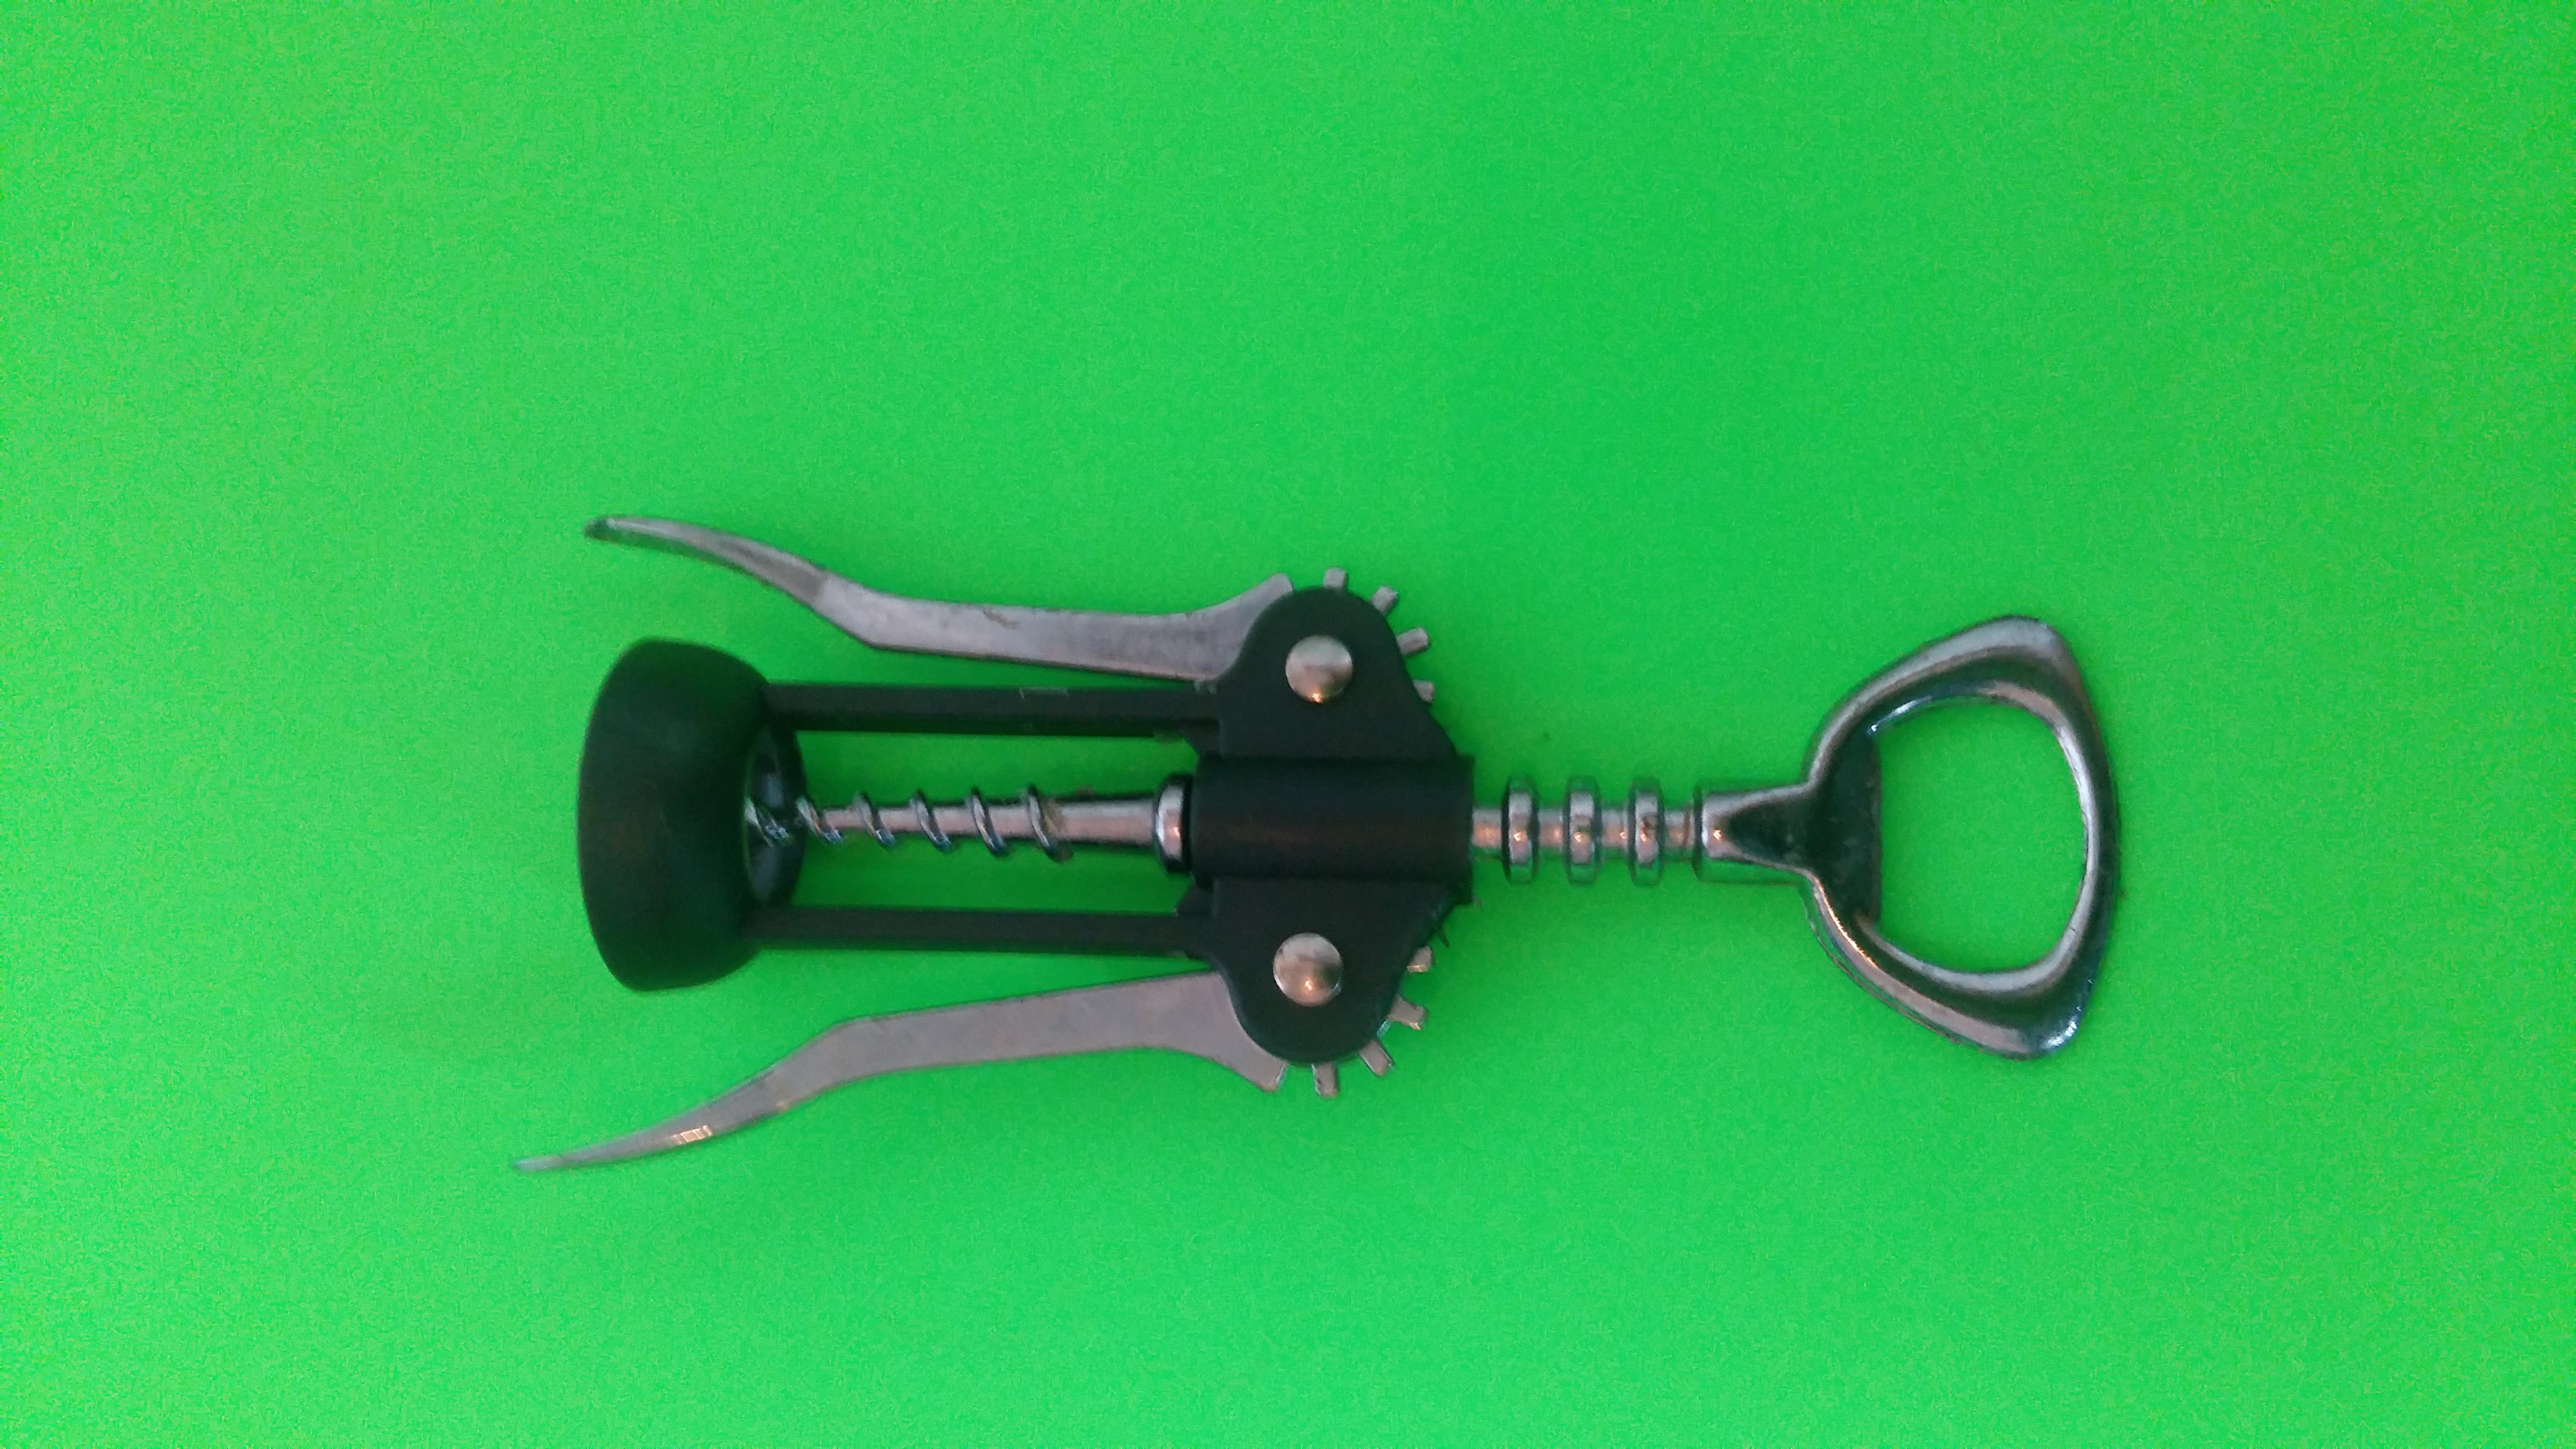bottleopener: (508, 511, 2123, 1180)
